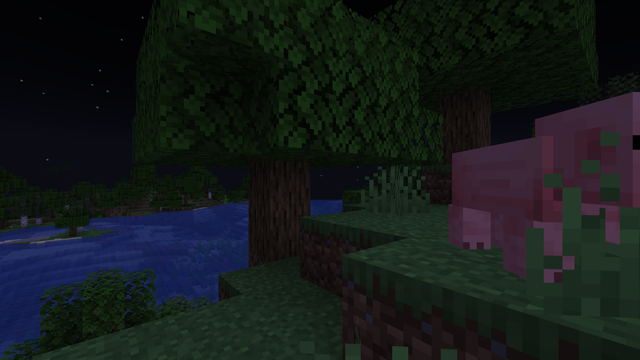cochons: (440, 126, 615, 296)
